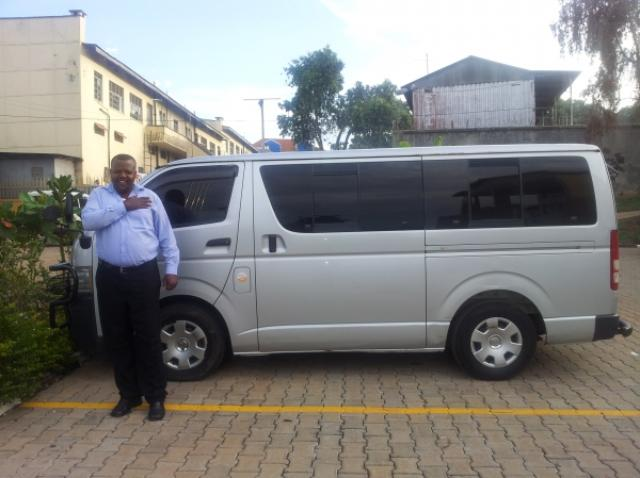van: (163, 141, 630, 379)
